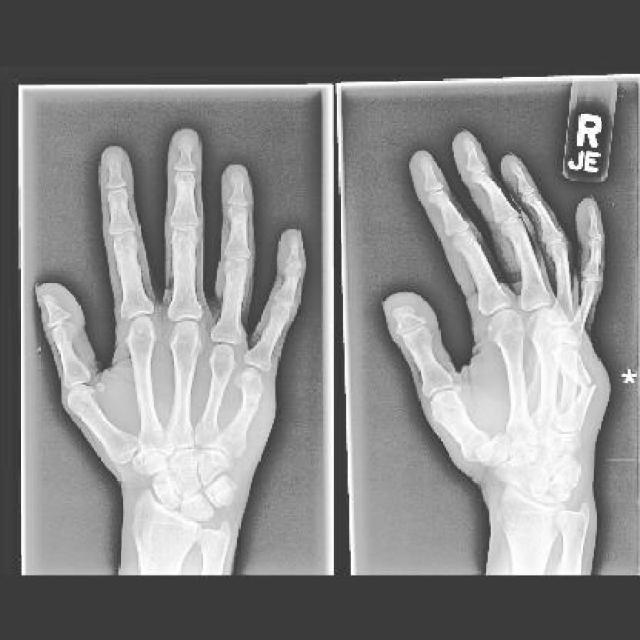Fracture: (576, 372, 599, 397), (239, 392, 262, 414)
